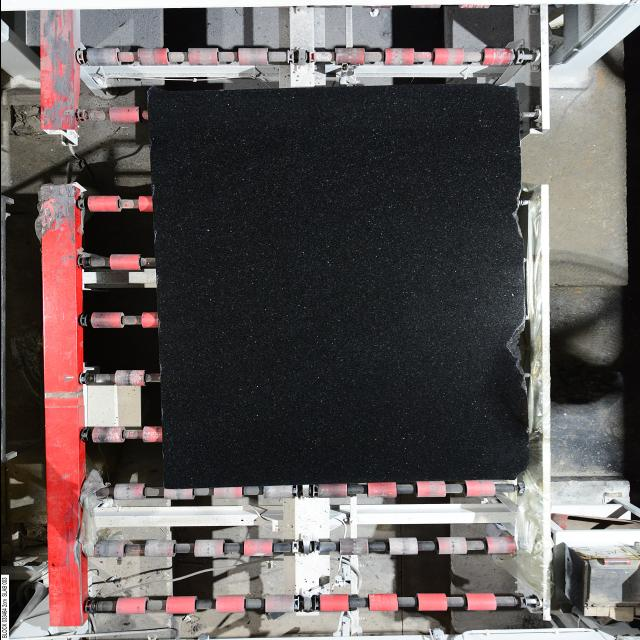chapa: (148, 85, 527, 489)
